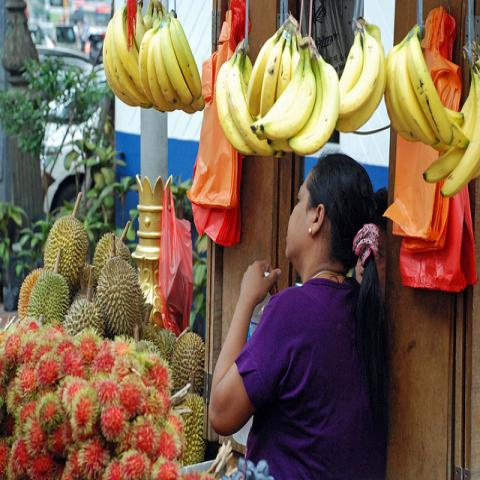car: (33, 44, 104, 218)
